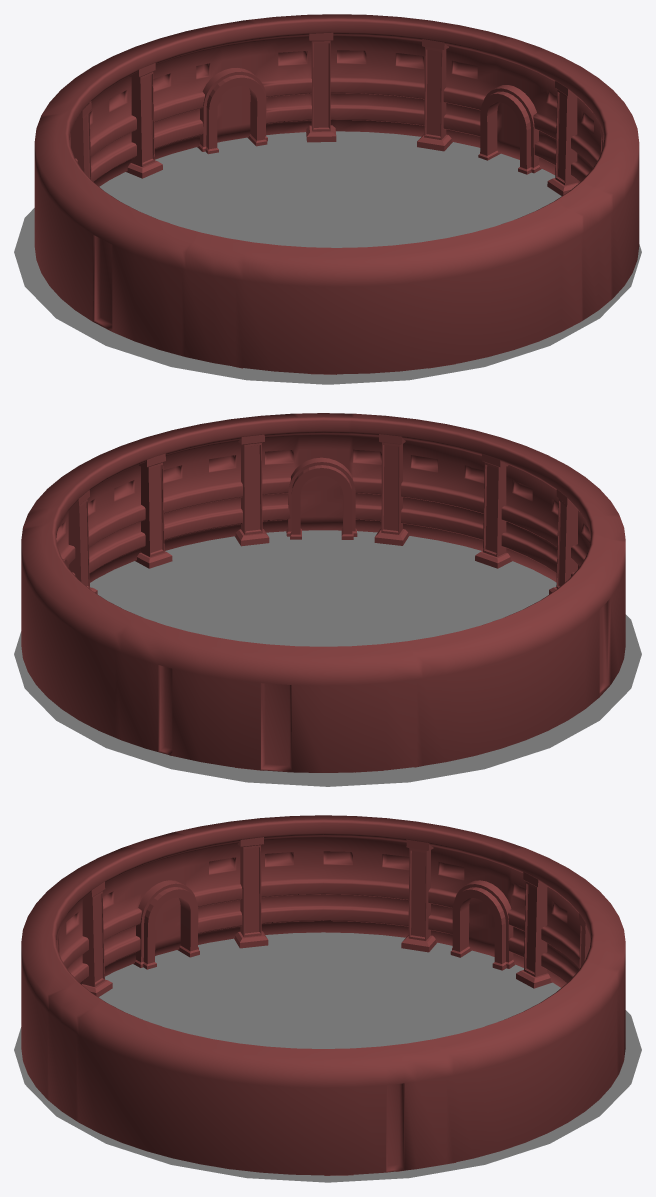
Rendered from Zoneee.fbx.
3 views of the same model, one above another, from view 1: azimuth 30°, elevation 25°; view 2: azimuth 150°, elevation 25°; view 3: azimuth 270°, elevation 25° (orthographic).
Parts seen in each view (by area): view 1: pTorus1, pDisc1, pCylinder10, pCylinder9, pCube14, pCube12, pCube13, pCube15, pCube11; view 2: pTorus1, pDisc1, pCylinder4, pCube16, pCube19, pCube18, pCube17, pCube20, pCube15; view 3: pTorus1, pDisc1, pCylinder7, pCylinder8, pCube10, pCube9, pCube11, pCube20.
Boxes of the visible parts, left/top/right/bottom form: pTorus1: left=34, top=14, right=639, bottom=374; pDisc1: left=14, top=131, right=641, bottom=384; pCylinder10: left=478, top=85, right=541, bottom=174; pCylinder9: left=197, top=68, right=267, bottom=154; pCube14: left=417, top=39, right=452, bottom=151; pCube12: left=126, top=63, right=162, bottom=178; pCube13: left=306, top=32, right=336, bottom=142; pCube15: left=547, top=81, right=578, bottom=195; pCube11: left=71, top=101, right=91, bottom=179; pTorus1: left=21, top=413, right=625, bottom=772; pDisc1: left=14, top=530, right=641, bottom=786; pCylinder4: left=286, top=457, right=357, bottom=539; pCube16: left=135, top=453, right=172, bottom=568; pCube19: left=475, top=454, right=512, bottom=568; pCube18: left=374, top=434, right=408, bottom=545; pCube17: left=235, top=434, right=269, bottom=546; pCube20: left=549, top=489, right=577, bottom=594; pCube15: left=68, top=490, right=97, bottom=594; pTorus1: left=21, top=815, right=625, bottom=1175; pDisc1: left=14, top=932, right=641, bottom=1182; pCylinder7: left=133, top=880, right=199, bottom=969; pCylinder8: left=450, top=880, right=515, bottom=970; pCube10: left=401, top=839, right=436, bottom=952; pCube9: left=234, top=837, right=268, bottom=948; pCube11: left=516, top=872, right=552, bottom=988; pCube20: left=82, top=881, right=112, bottom=997.
Size of the model in its own units: 216 by 46.51 by 216.
